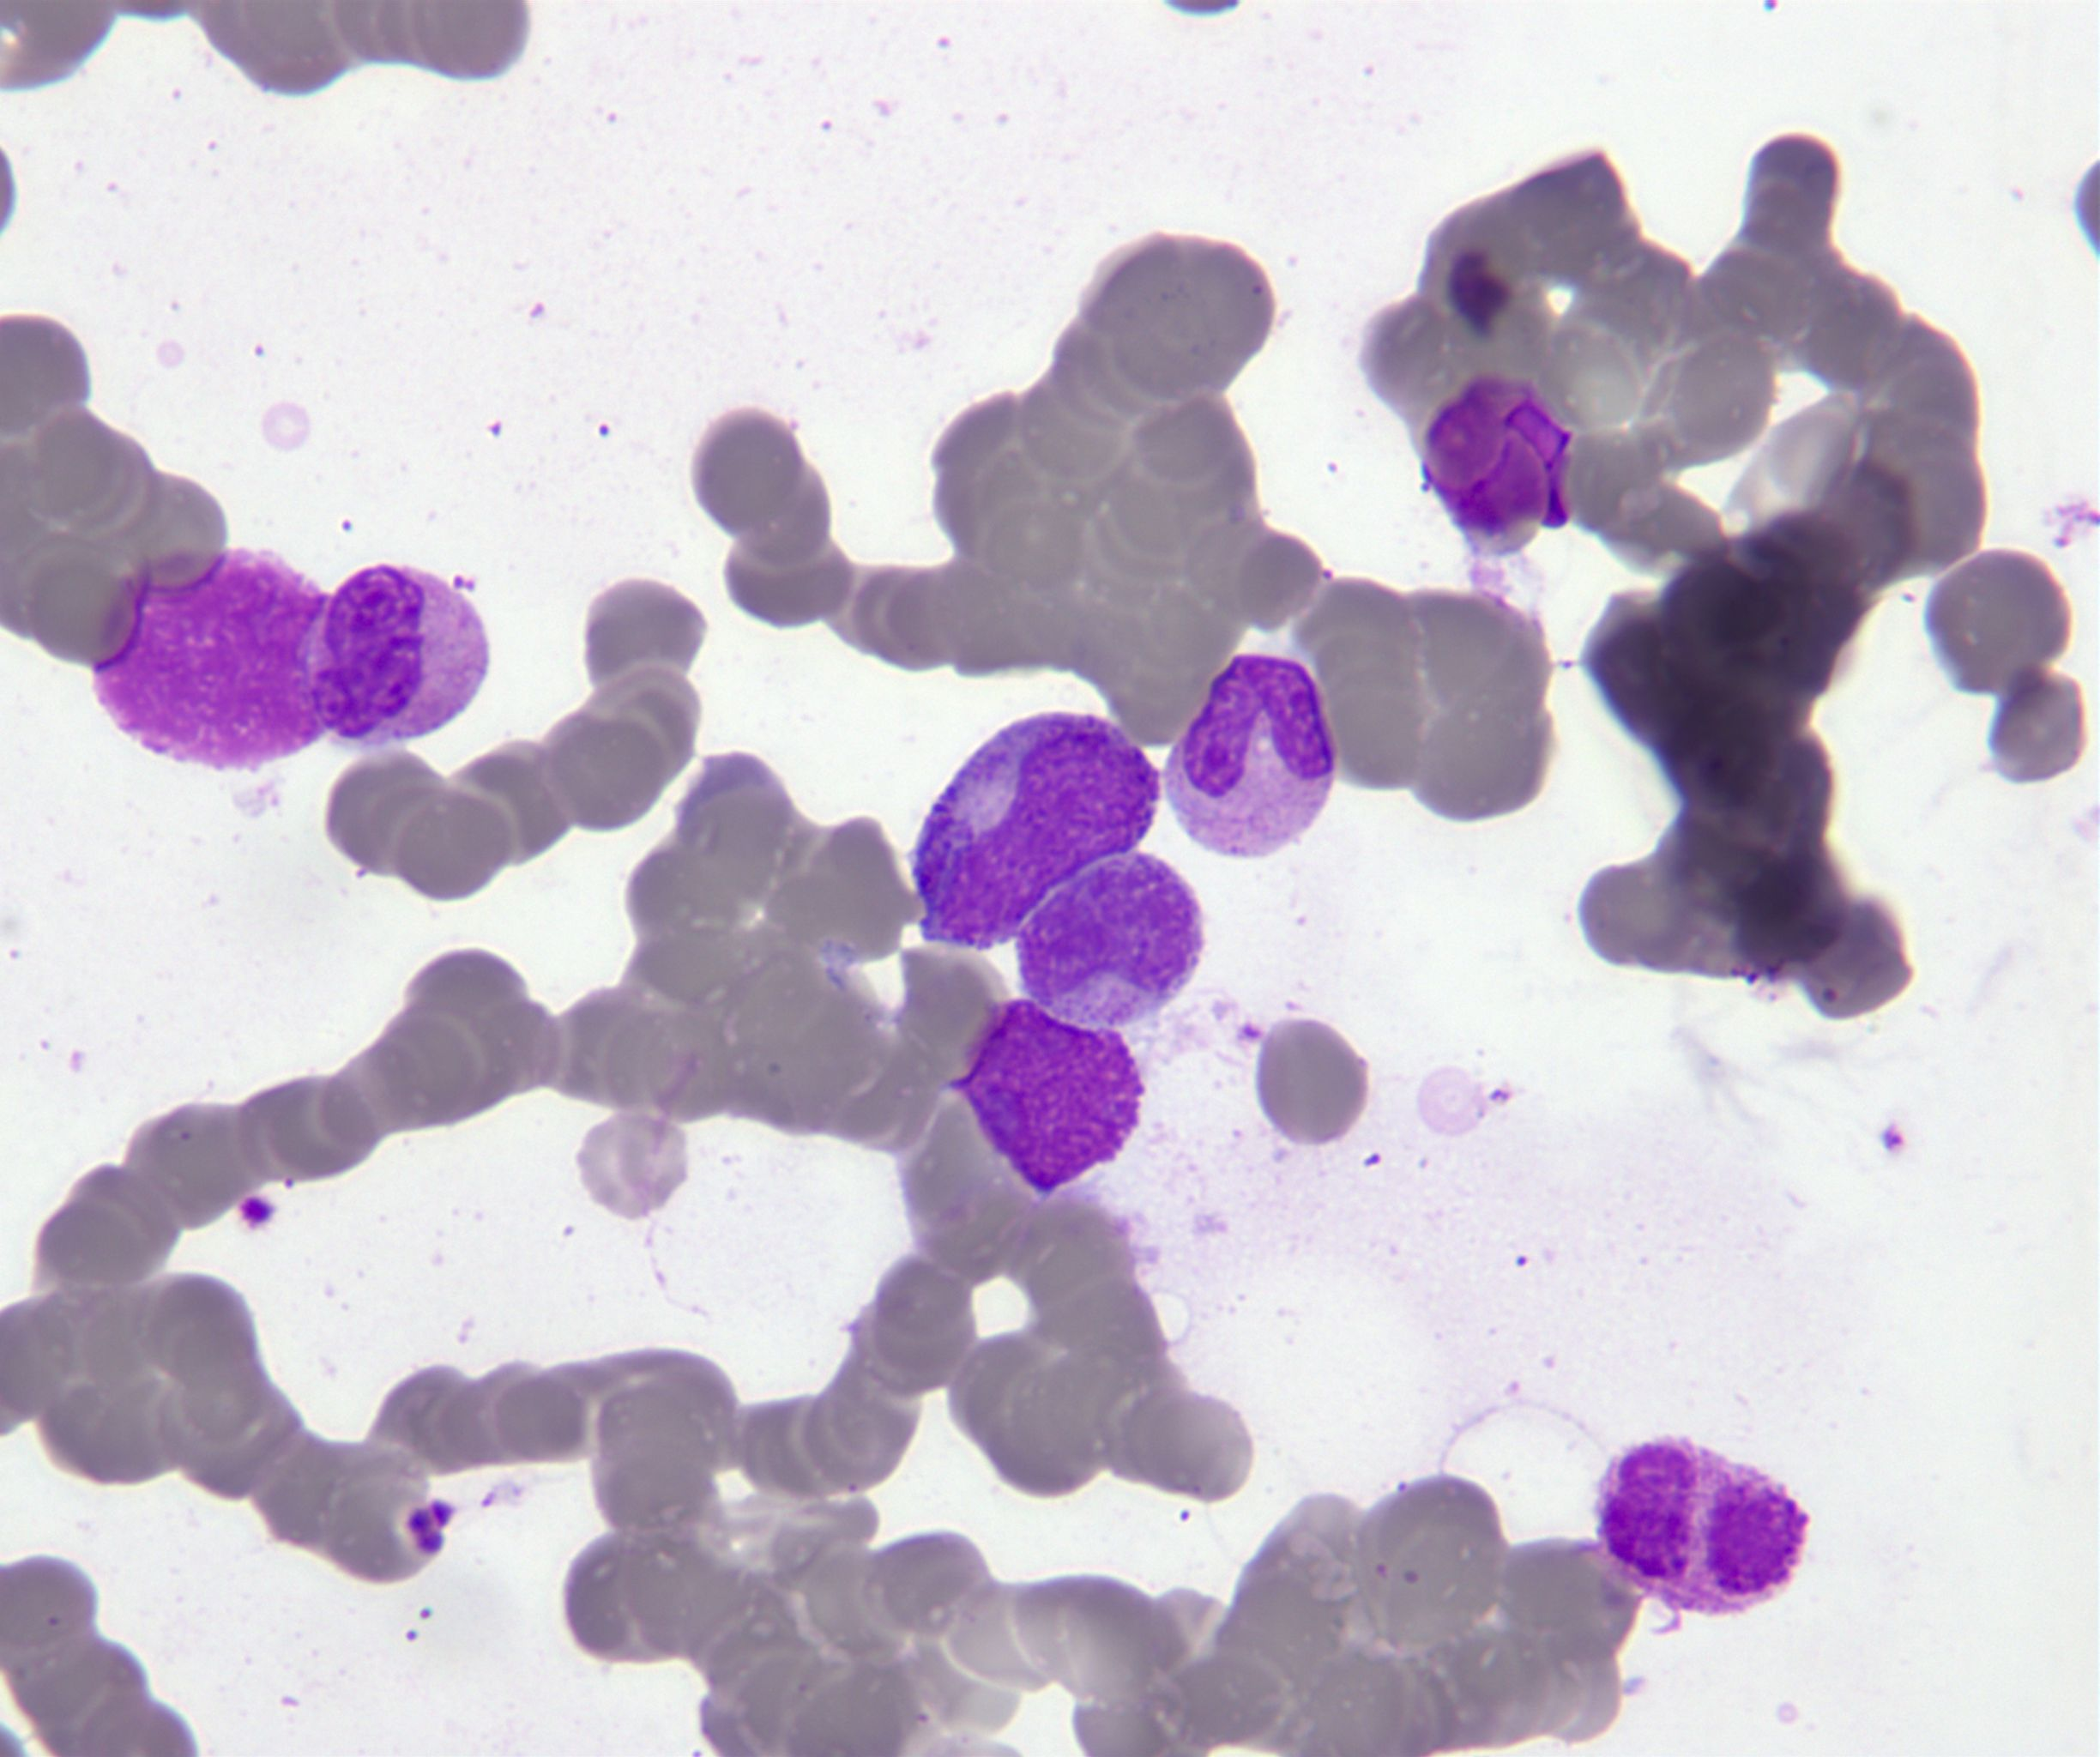3: (900, 705, 1163, 956)
4: (1008, 844, 1210, 1033), (298, 558, 494, 752)
5: (1162, 647, 1343, 867)
x: (1585, 1425, 1817, 1621), (947, 995, 1153, 1206)
